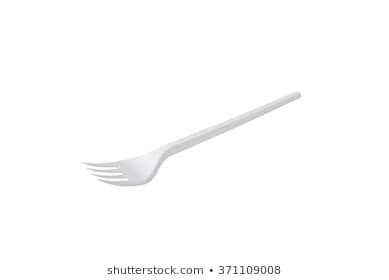Fork: (80, 91, 301, 187)
